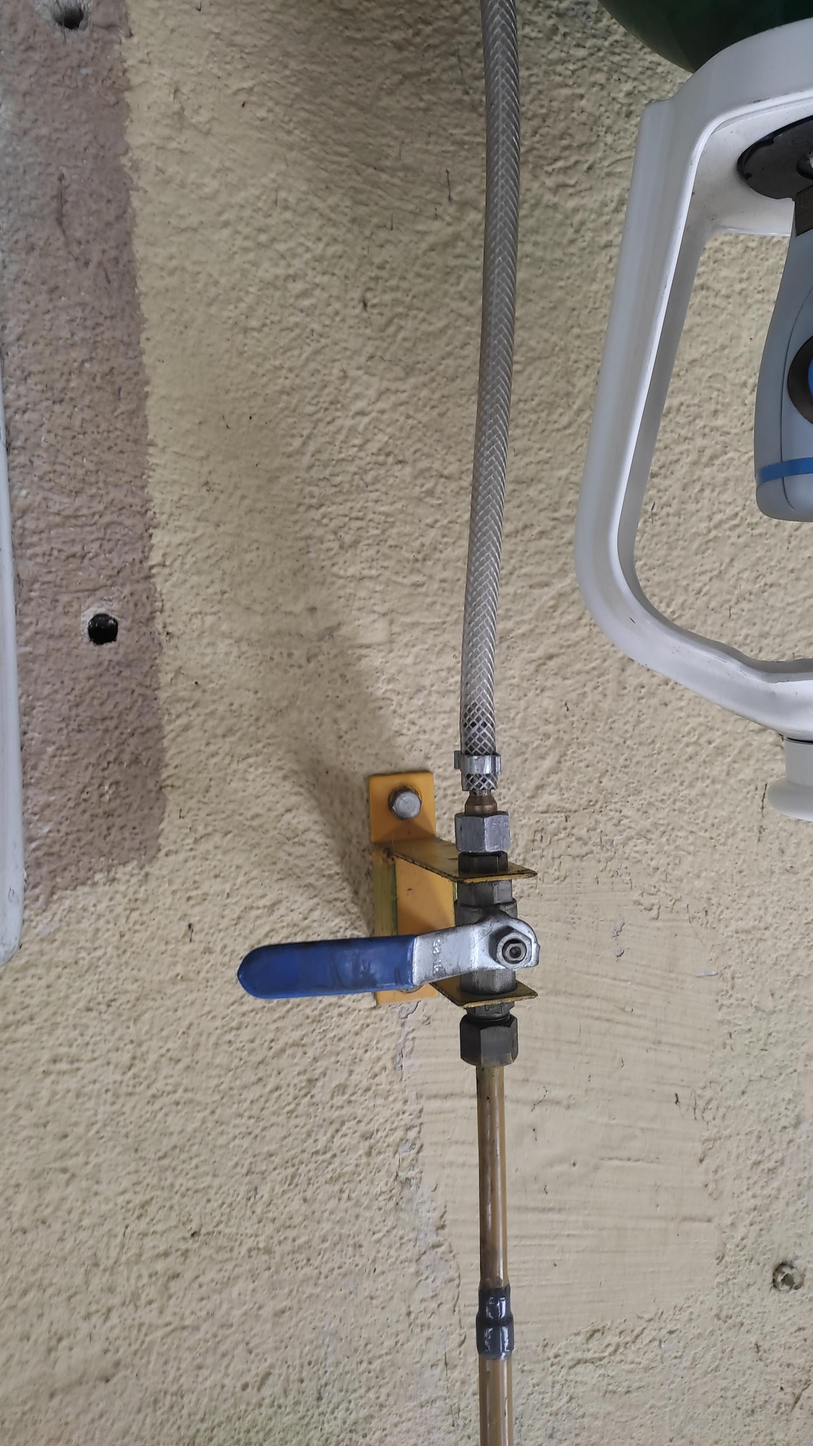closed valve: (236, 870, 548, 1026)
